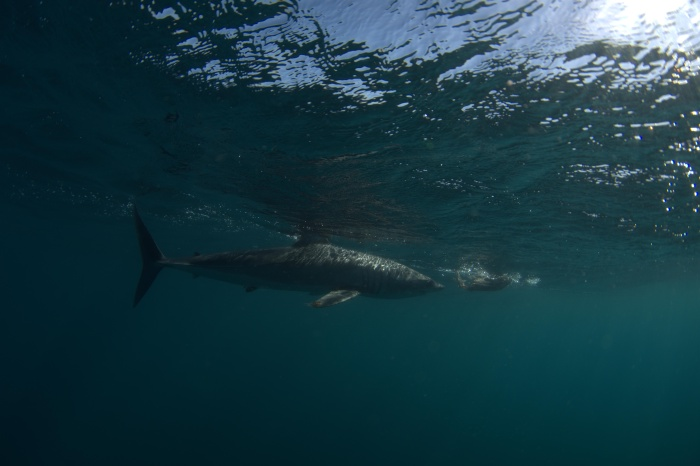Mako: (115, 200, 452, 316)
